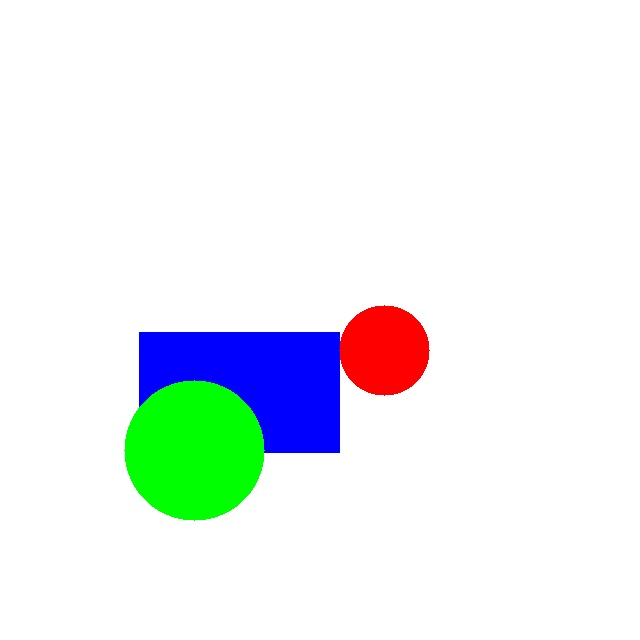cartao: (139, 332, 339, 452)
rosca_externa: (124, 380, 264, 520)
rosca_interna: (339, 305, 429, 395)
